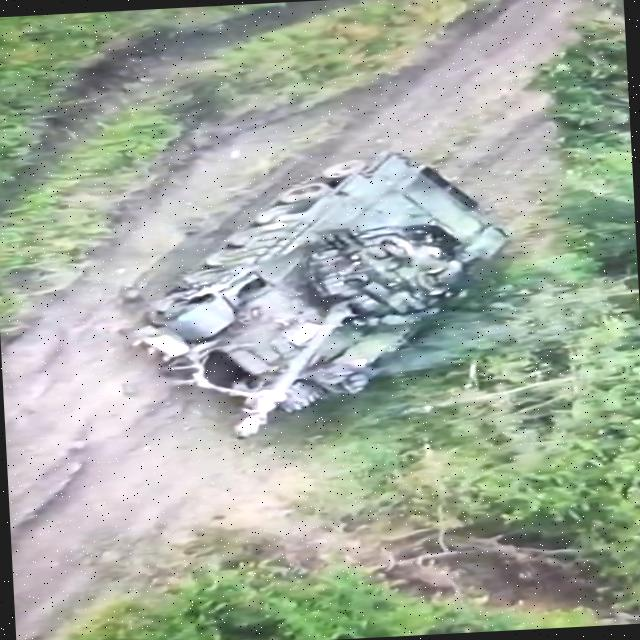MBT: (104, 142, 528, 449)
